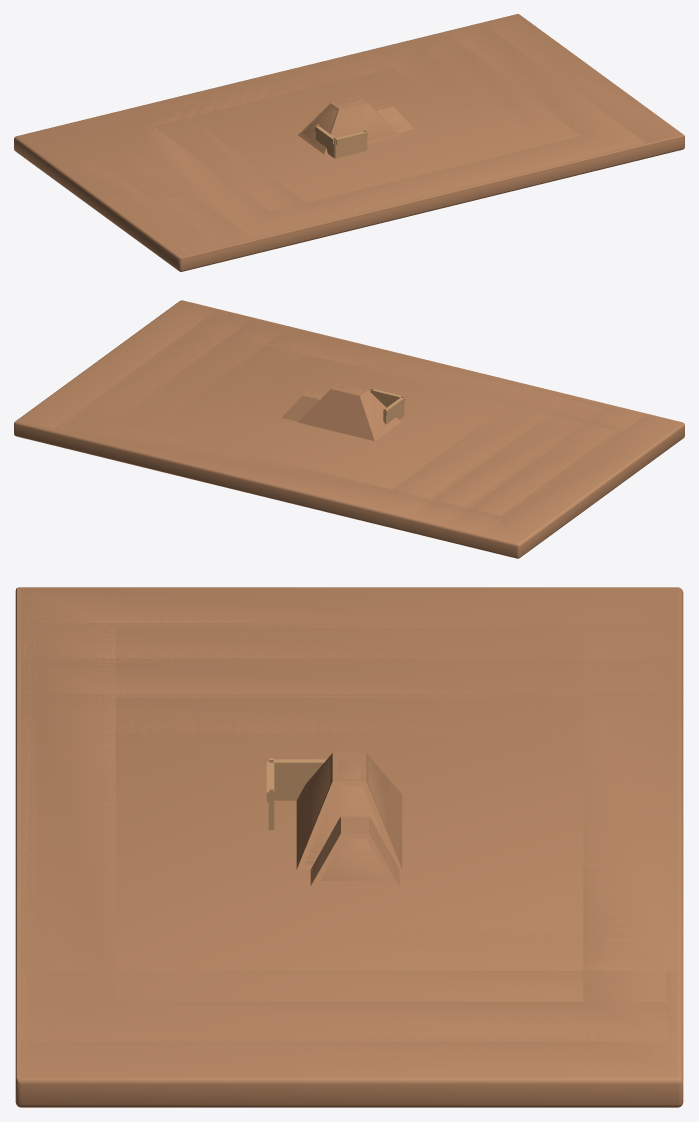
Rendered from BLD_SITEWORK_A_v003.glb.
3 views of the same model, one above another, from view 1: azimuth 30°, elevation 25°; view 2: azimuth 150°, elevation 25°; view 3: azimuth 270°, elevation 25° (orthographic). The views are drawn at different scales.
Visible parts, largest first — view 1: BLD_SITEWORK_A_PLOT_3X2, BLD_SITEWORK_A_PLOT_4X2, BLD_SITEWORK_A_PIT_4X2, BLD_SITEWORK_A_PLOT_5X2, BLD_SITEWORK_A_PIT_3X2, BLD_SITEWORK_A_PIT_2X2, BLD_SITEWORK_A_PIT_5X2, BLD_SITEWORK_A_PIT_5X3, BLD_SITEWORK_A_PLOT_2X2, BLD_SITEWORK_A_PIT_4X3, BLD_SITEWORK_A_SPOIL_HEAP, BLD_SITEWORK_A_SPOIL_HEAP_LOW (+1 smaller); view 2: BLD_SITEWORK_A_PLOT_2X2, BLD_SITEWORK_A_PIT_2X2, BLD_SITEWORK_A_PLOT_4X2, BLD_SITEWORK_A_PLOT_3X2, BLD_SITEWORK_A_PIT_5X2, BLD_SITEWORK_A_PIT_3X2, BLD_SITEWORK_A_PIT_4X2, BLD_SITEWORK_A_PIT_5X3, BLD_SITEWORK_A_PIT_4X3, BLD_SITEWORK_A_SPOIL_HEAP_LOW, BLD_SITEWORK_A_PLOT_5X2, BLD_SITEWORK_A_SPOIL_HEAP (+1 smaller); view 3: BLD_SITEWORK_A_PLOT_2X2, BLD_SITEWORK_A_PIT_5X2, BLD_SITEWORK_A_PIT_4X2, BLD_SITEWORK_A_PLOT_5X2, BLD_SITEWORK_A_PIT_2X2, BLD_SITEWORK_A_PIT_3X2, BLD_SITEWORK_A_PIT_5X3, BLD_SITEWORK_A_PIT_4X3, BLD_SITEWORK_A_PLOT_4X2, BLD_SITEWORK_A_PLOT_3X2, BLD_SITEWORK_A_SPOIL_HEAP_LOW, BLD_SITEWORK_A_SPOIL_HEAP (+1 smaller).
Part boxes in pixels (bbox=[...]): BLD_SITEWORK_A_PLOT_3X2: bbox=[135, 32, 557, 238]; BLD_SITEWORK_A_PLOT_4X2: bbox=[113, 23, 644, 245]; BLD_SITEWORK_A_PIT_4X2: bbox=[110, 23, 647, 262]; BLD_SITEWORK_A_PLOT_5X2: bbox=[17, 14, 684, 260]; BLD_SITEWORK_A_PIT_3X2: bbox=[133, 32, 577, 253]; BLD_SITEWORK_A_PIT_2X2: bbox=[149, 40, 572, 244]; BLD_SITEWORK_A_PIT_5X2: bbox=[14, 14, 684, 271]; BLD_SITEWORK_A_PIT_5X3: bbox=[14, 14, 684, 260]; BLD_SITEWORK_A_PLOT_2X2: bbox=[143, 43, 500, 210]; BLD_SITEWORK_A_PIT_4X3: bbox=[103, 23, 647, 250]; BLD_SITEWORK_A_SPOIL_HEAP: bbox=[302, 97, 409, 150]; BLD_SITEWORK_A_SPOIL_HEAP_LOW: bbox=[298, 96, 414, 154]; BLD_SITEWORK_A_PLOT_2X2: bbox=[124, 329, 568, 529]; BLD_SITEWORK_A_PIT_2X2: bbox=[124, 327, 572, 531]; BLD_SITEWORK_A_PLOT_4X2: bbox=[51, 311, 579, 542]; BLD_SITEWORK_A_PLOT_3X2: bbox=[88, 319, 600, 535]; BLD_SITEWORK_A_PIT_5X2: bbox=[14, 301, 684, 558]; BLD_SITEWORK_A_PIT_3X2: bbox=[88, 318, 606, 539]; BLD_SITEWORK_A_PIT_4X2: bbox=[51, 310, 599, 549]; BLD_SITEWORK_A_PIT_5X3: bbox=[17, 300, 684, 557]; BLD_SITEWORK_A_PIT_4X3: bbox=[161, 309, 646, 534]; BLD_SITEWORK_A_SPOIL_HEAP_LOW: bbox=[282, 383, 400, 441]; BLD_SITEWORK_A_PLOT_5X2: bbox=[14, 301, 680, 557]; BLD_SITEWORK_A_SPOIL_HEAP: bbox=[310, 384, 381, 437]; BLD_SITEWORK_A_PLOT_2X2: bbox=[21, 693, 683, 974]; BLD_SITEWORK_A_PIT_5X2: bbox=[15, 587, 683, 1107]; BLD_SITEWORK_A_PIT_4X2: bbox=[21, 623, 683, 1041]; BLD_SITEWORK_A_PLOT_5X2: bbox=[15, 588, 683, 1104]; BLD_SITEWORK_A_PIT_2X2: bbox=[21, 693, 680, 971]; BLD_SITEWORK_A_PIT_3X2: bbox=[21, 658, 683, 1005]; BLD_SITEWORK_A_PIT_5X3: bbox=[15, 587, 677, 1083]; BLD_SITEWORK_A_PIT_4X3: bbox=[15, 623, 683, 1043]; BLD_SITEWORK_A_PLOT_4X2: bbox=[21, 623, 683, 1045]; BLD_SITEWORK_A_PLOT_3X2: bbox=[21, 658, 683, 1010]; BLD_SITEWORK_A_SPOIL_HEAP_LOW: bbox=[296, 752, 402, 886]; BLD_SITEWORK_A_SPOIL_HEAP: bbox=[305, 759, 396, 880].
Bounding box in the file's own units: 21 × 1.9 × 12.
